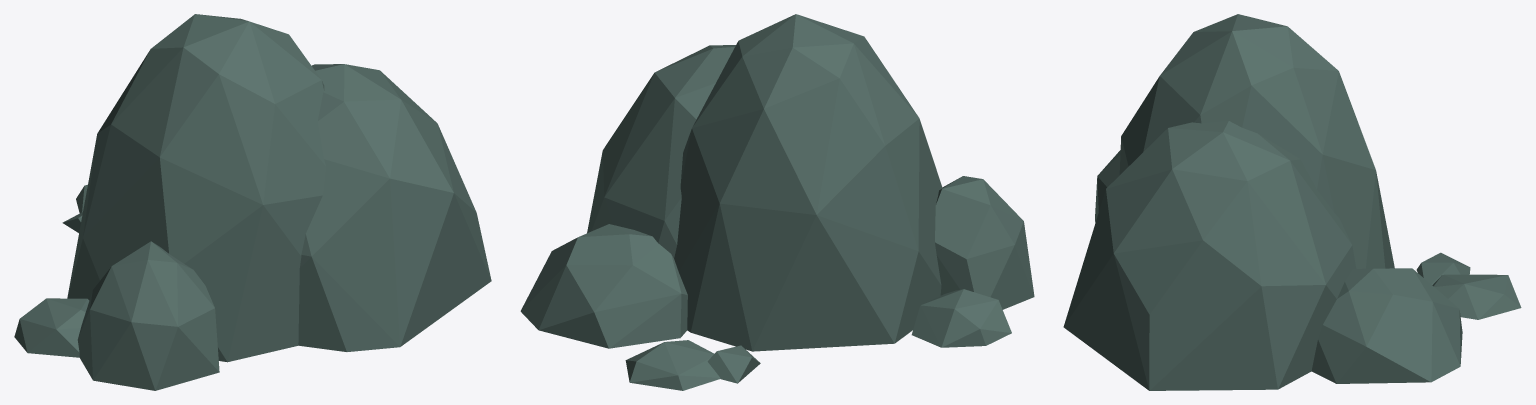
The model's file is SM_EN_Rocks_Large_Lvl2.fbx.
The picture shows the model from 3 angles, left to right: view 1: azimuth 30°, elevation 25°; view 2: azimuth 150°, elevation 25°; view 3: azimuth 270°, elevation 25°; orthographic projection. The views are drawn at different scales.
Visible parts, largest first — view 1: Large Rocks_Lvl2; view 2: Large Rocks_Lvl2; view 3: Large Rocks_Lvl2.
Part boxes in pixels (x1,y1,x2,y2): Large Rocks_Lvl2: (14,14,491,390); Large Rocks_Lvl2: (520,14,1034,390); Large Rocks_Lvl2: (1063,14,1521,390).
Size of the model in its own units: 508 by 496 by 319.
